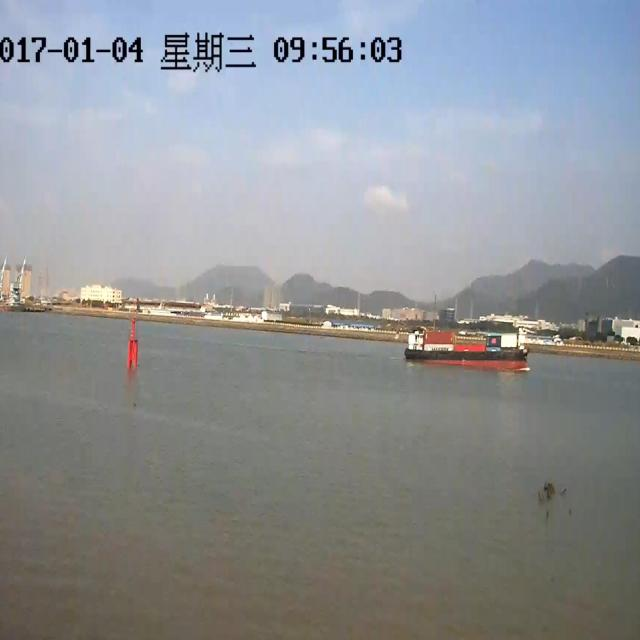cargoship: (406, 312, 534, 358)
